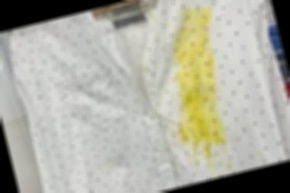mustard: (152, 6, 243, 176)
